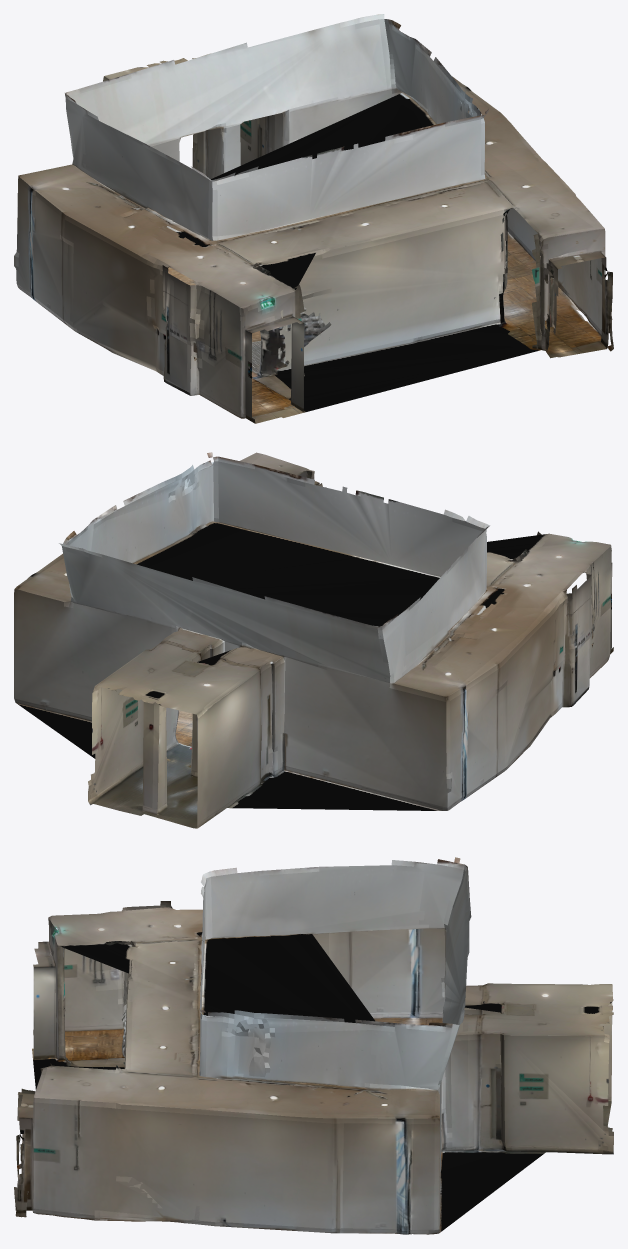
Rendered from Atrium_new-IM.fbx.
3 views of the same model, one above another, from view 1: azimuth 30°, elevation 25°; view 2: azimuth 150°, elevation 25°; view 3: azimuth 270°, elevation 25° (orthographic). The views are drawn at different scales.
Parts seen in each view (by area): view 1: Atrium_new-IM; view 2: Atrium_new-IM; view 3: Atrium_new-IM.
Part boxes in pixels (<box>): Atrium_new-IM: <box>14,14,613,423</box>; Atrium_new-IM: <box>14,452,613,828</box>; Atrium_new-IM: <box>14,857,613,1234</box>.
Size of the model in its own units: 1218 by 493 by 1402.
1 material, 1 textured.
